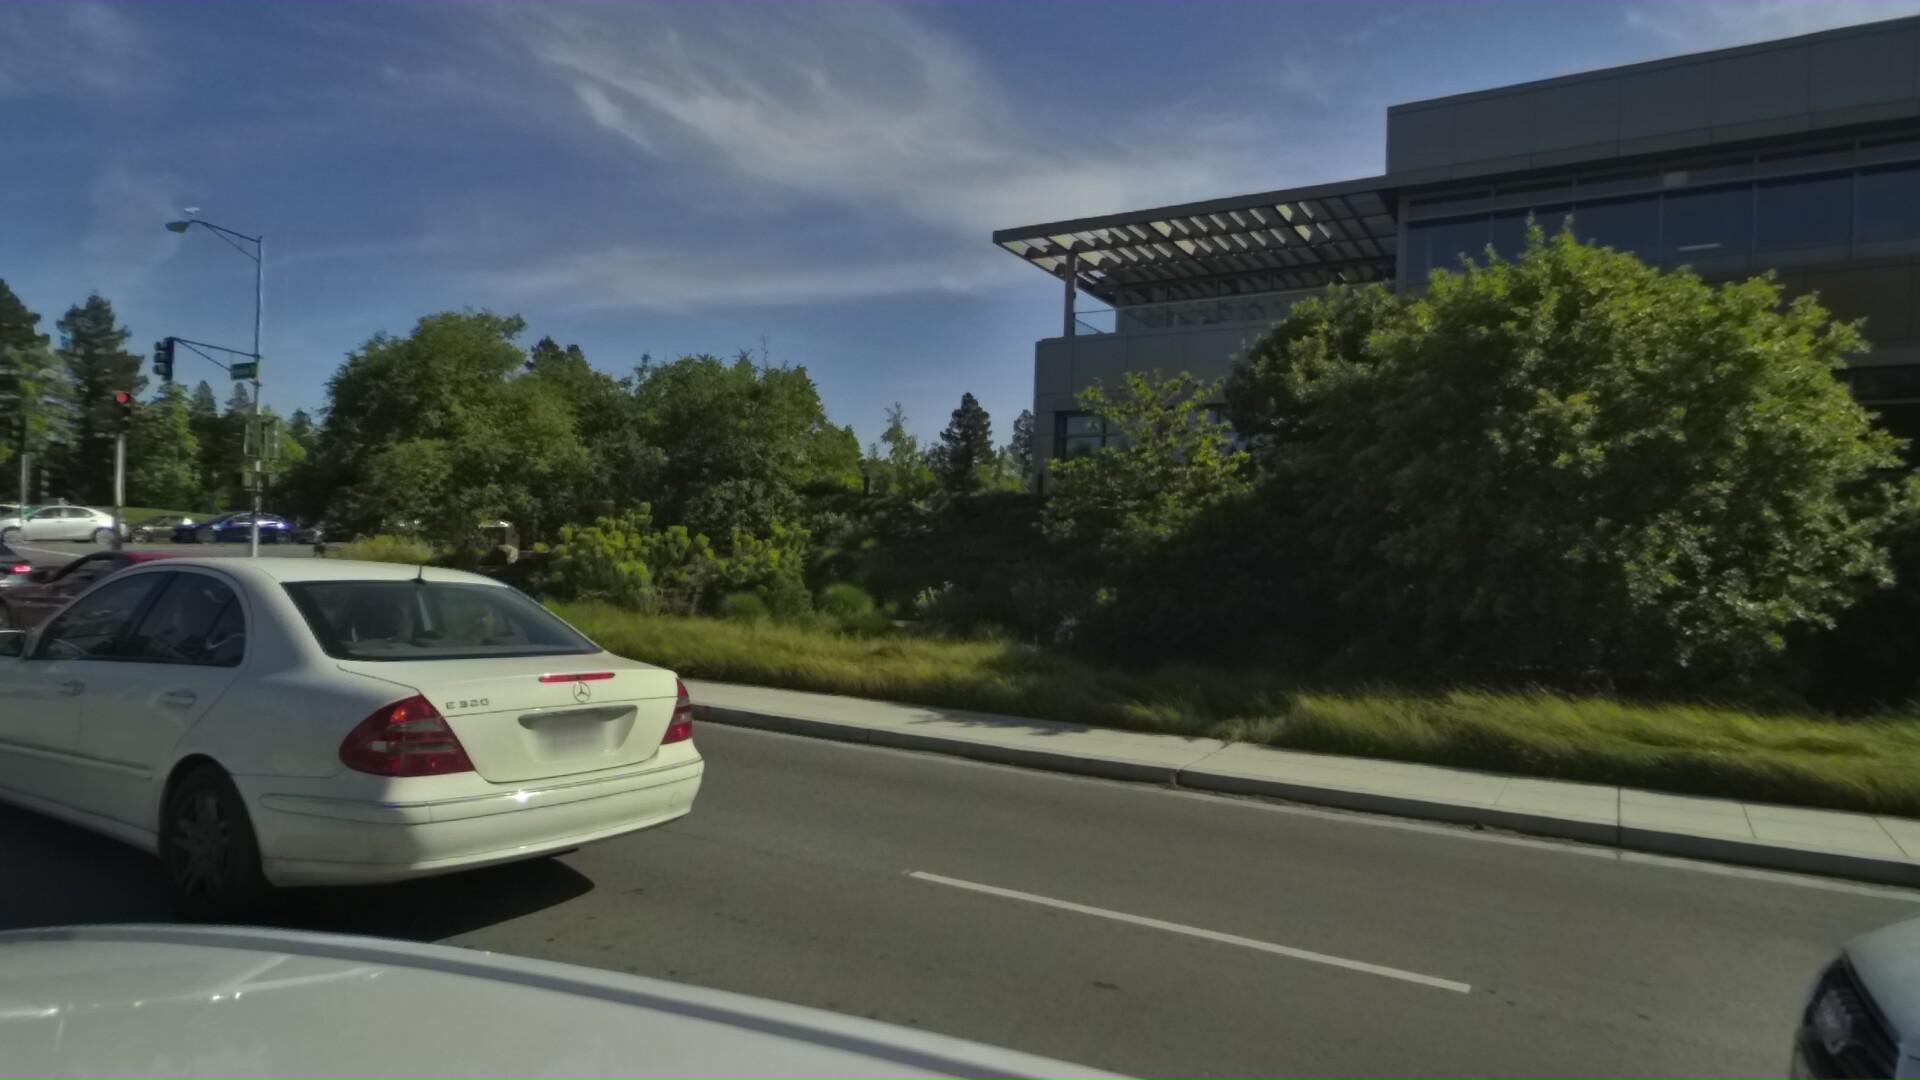car: (0, 541, 700, 1030), (0, 545, 305, 695), (0, 520, 58, 647), (80, 512, 229, 556), (0, 501, 125, 551), (150, 510, 295, 553), (0, 498, 46, 551)
